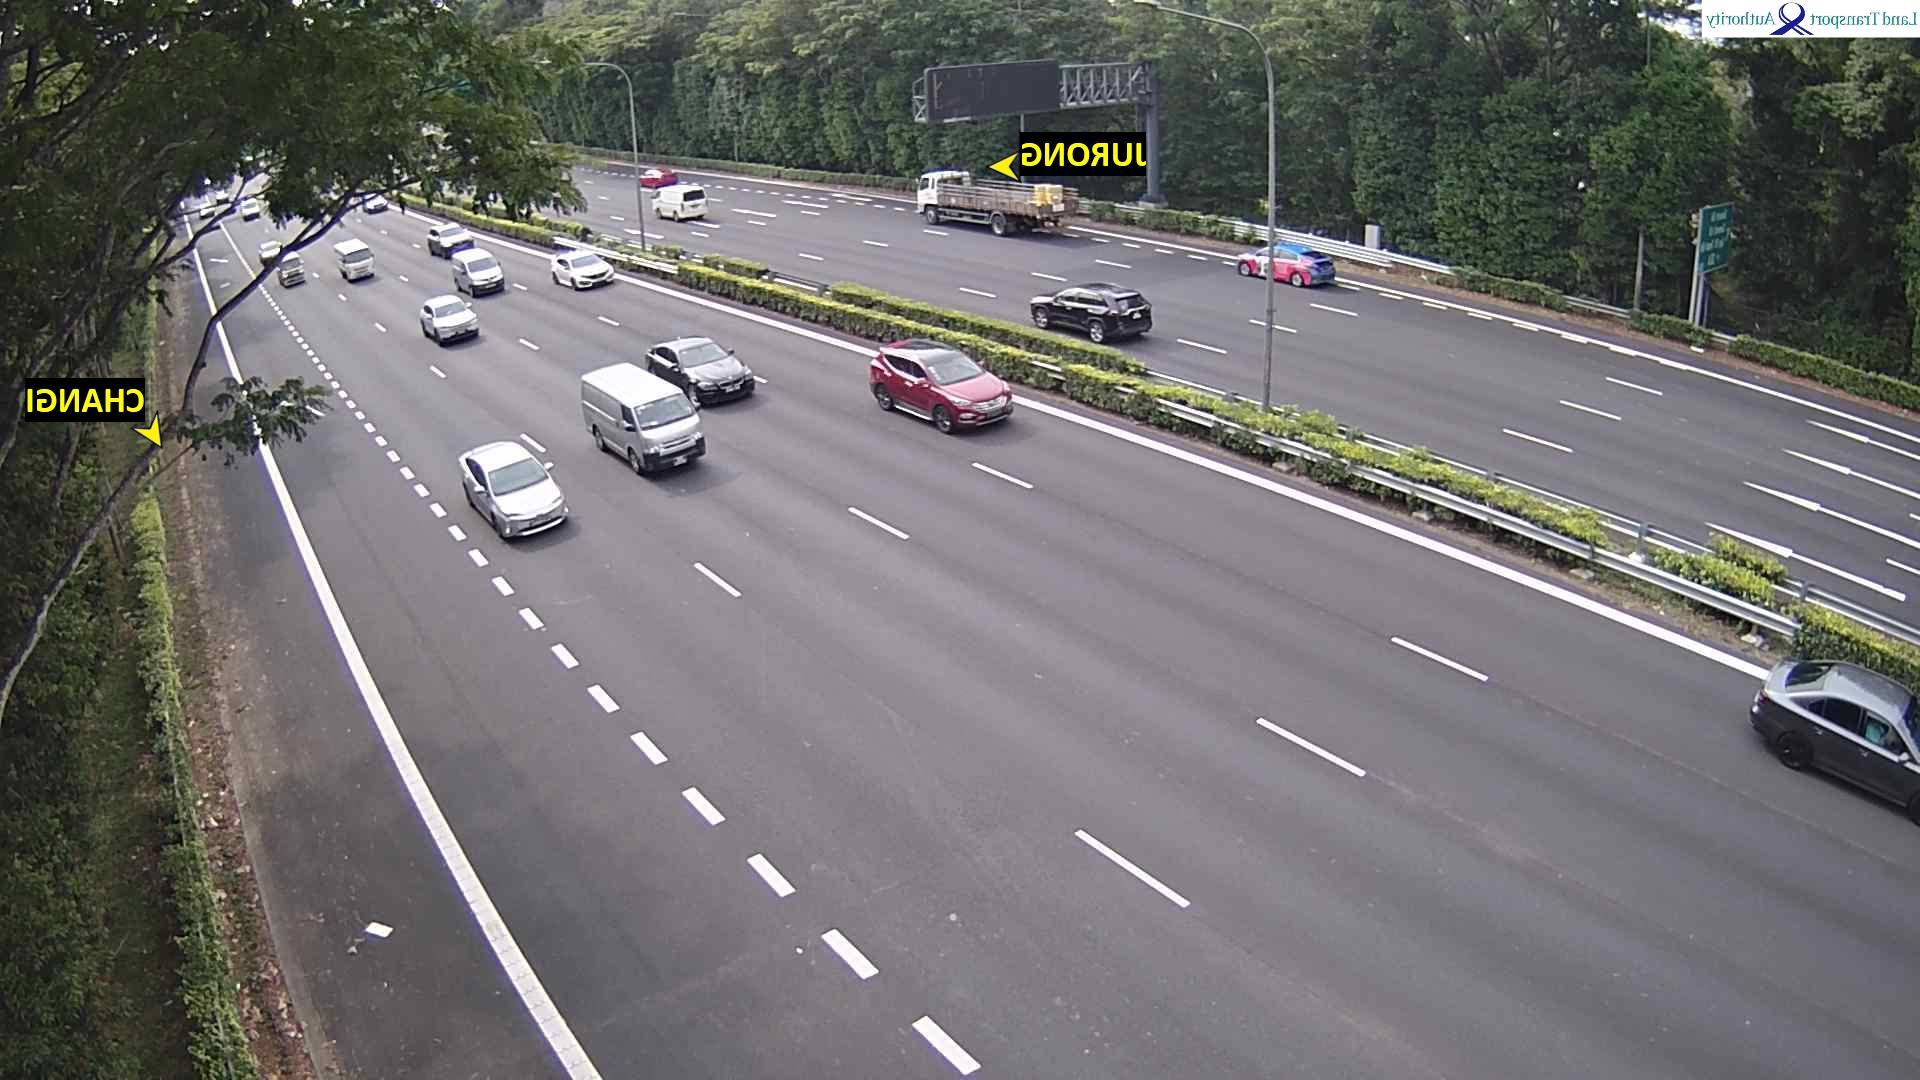incoming: (911, 348, 1018, 435), (471, 454, 570, 543), (618, 387, 708, 477), (667, 337, 755, 409), (424, 294, 480, 344), (562, 250, 615, 291), (459, 253, 504, 299), (434, 222, 479, 261), (339, 243, 377, 284), (278, 254, 308, 289), (239, 198, 260, 223)
